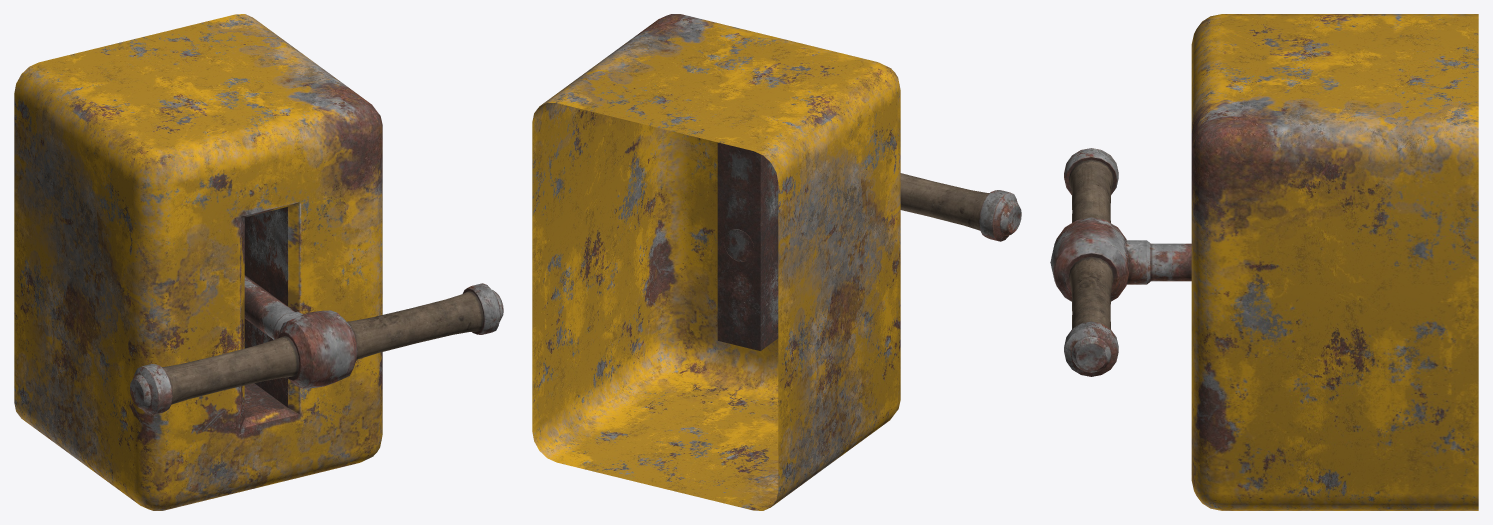
Rendered from alavanca.glb.
The picture shows the model from 3 angles, left to right: view 1: azimuth 30°, elevation 25°; view 2: azimuth 150°, elevation 25°; view 3: azimuth 270°, elevation 25°; orthographic projection. The views are drawn at different scales.
Parts seen in each view (by area): view 1: Alavanca_caixa; view 2: Alavanca_caixa; view 3: Alavanca_caixa.
Boxes of the visible parts, x1,y1,x2,y2 form: Alavanca_caixa: (14,14,503,510); Alavanca_caixa: (532,14,1021,510); Alavanca_caixa: (1050,14,1478,510).
Size of the model in its own units: 28.07 by 26.81 by 26.84.
Materials: 1 (1 with a texture image).
